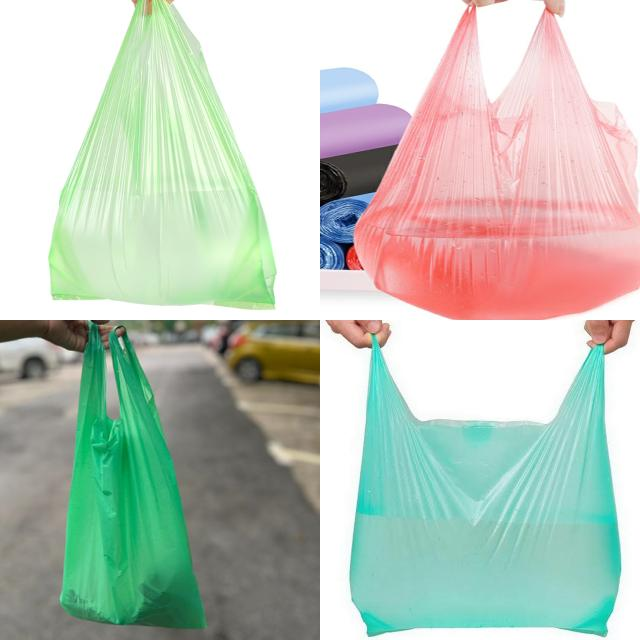Single-layer Plastic: (355, 9, 640, 319), (350, 346, 620, 635), (49, 0, 276, 309), (60, 322, 205, 629)
